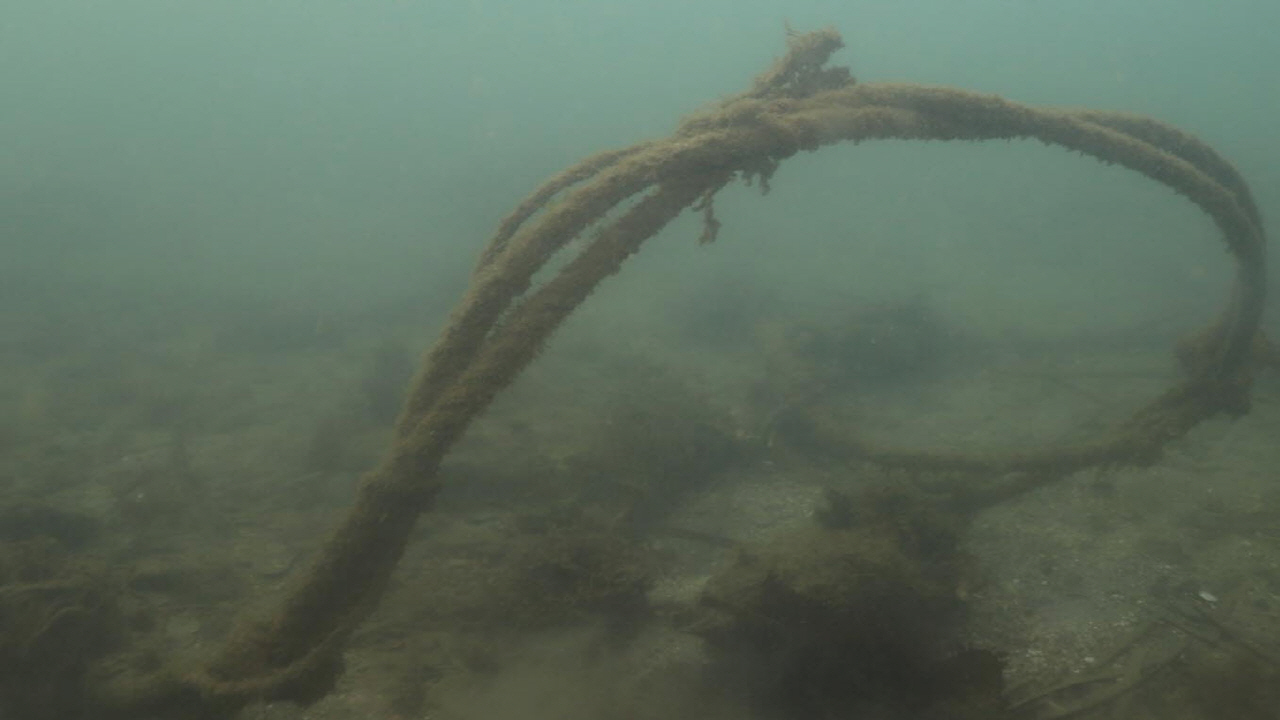bundle of ropes: (174, 25, 1272, 720)
